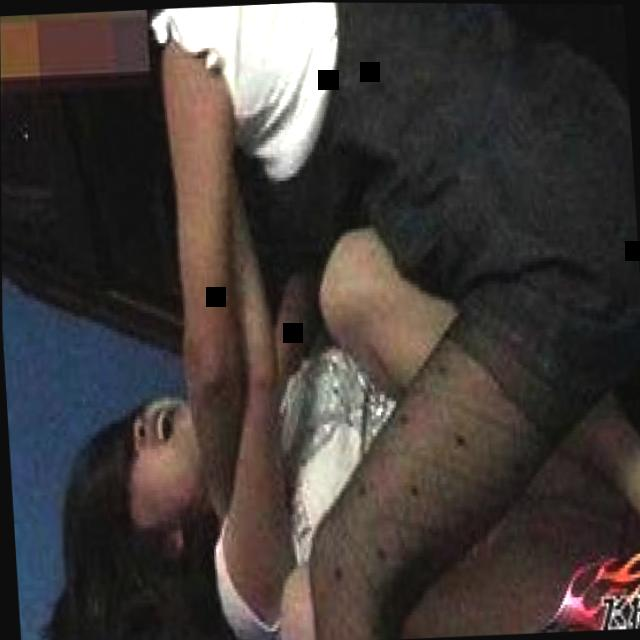Fall-Detected: (66, 0, 640, 640)
